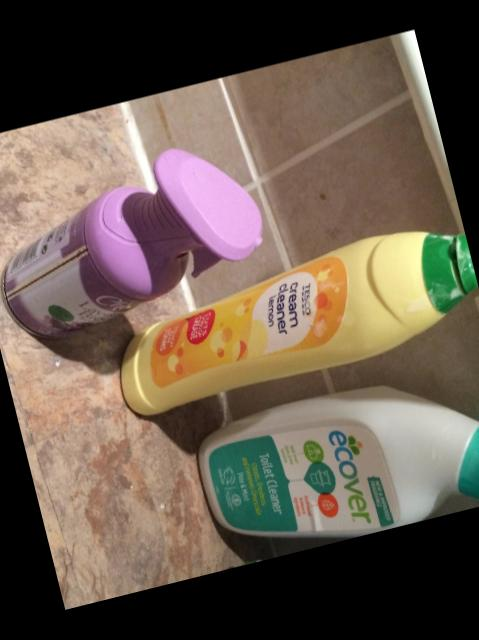plastic: (120, 232, 477, 415), (2, 149, 260, 338), (198, 387, 479, 537)
